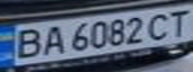0: (87, 18, 112, 51)
2: (124, 14, 151, 45)
6: (66, 20, 90, 52)
8: (106, 16, 130, 47)
A: (36, 22, 69, 56)
B: (6, 26, 48, 61)
C: (145, 10, 175, 42)
T: (163, 6, 193, 37)
